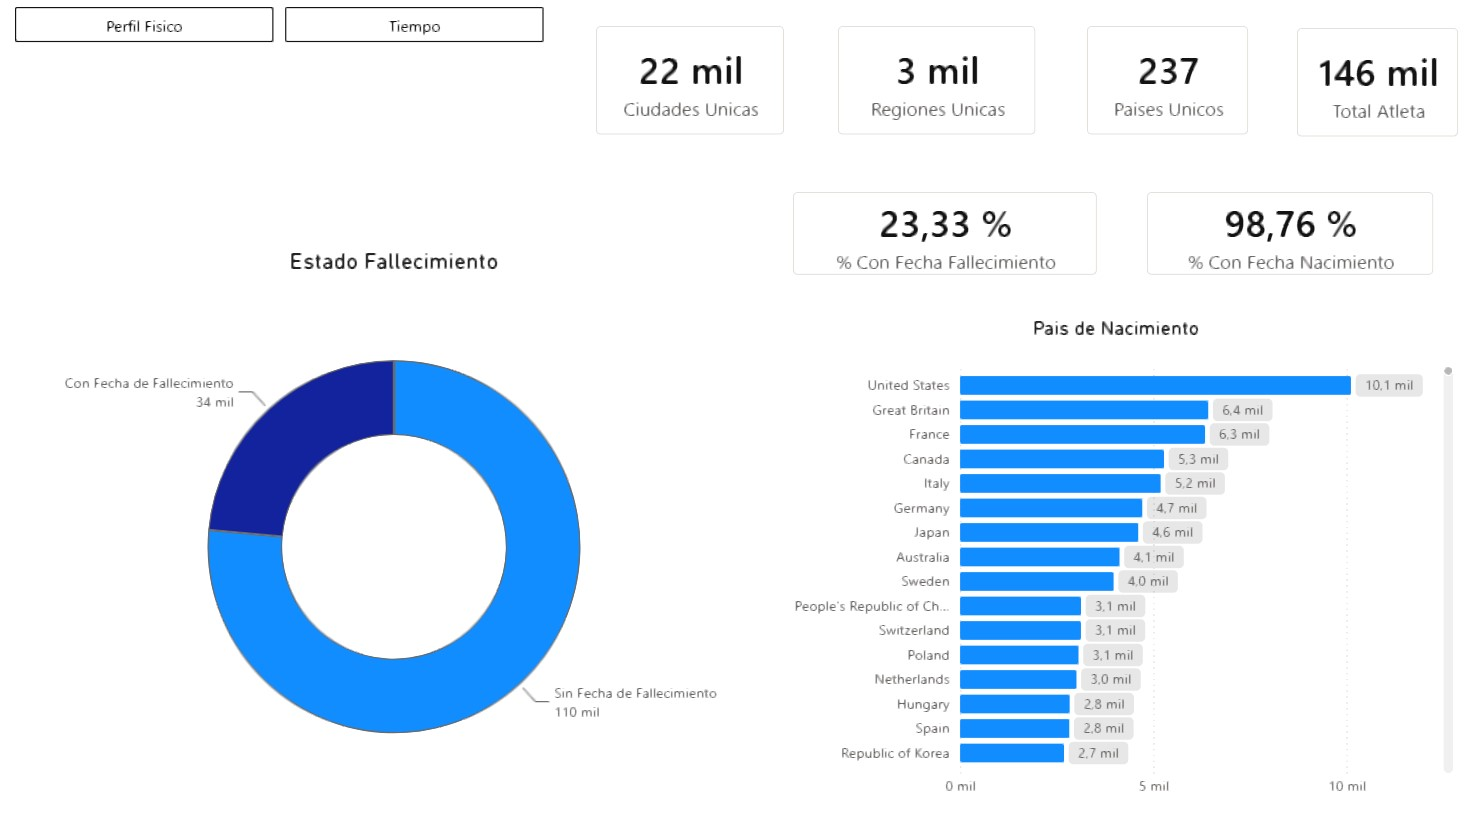

Layout of this report page (visuals, bound fields, positions):
{"tool":"powerbi","page":{"name":"Resumen General","canvas":[1280,720],"ordinal":0},"visuals":[{"type":"cardVisual","fields":{"Data":["MEDIDAS.Total_Atleta"]},"box":[1096.3,14.1,172.6,127.2],"z":0},{"type":"cardVisual","fields":{"Data":["MEDIDAS.Paises_Unicos"]},"box":[916.3,12.5,172.6,127.2],"z":1000},{"type":"cardVisual","fields":{"Data":["MEDIDAS.Regiones_Unicas"]},"box":[704.2,12.5,203.2,127.5],"z":2000},{"type":"cardVisual","fields":{"Data":["MEDIDAS.Ciudades_Unicas"]},"box":[496.5,12.5,195.2,127.5],"z":3000},{"type":"cardVisual","fields":{"Data":["MEDIDAS.%_Con_Fecha_Nacimiento"]},"box":[968,155.1,279.9,105.2],"z":4000},{"type":"cardVisual","fields":{"Data":["MEDIDAS.%_Con_Fecha_Fallecimiento"]},"box":[665,155.1,294.2,105.2],"z":5000},{"type":"barChart","title":"Pais de Nacimiento ","fields":{"Y":["CountNonNull(bios_new.Pais_Nacimiento)"],"Category":["bios_new.NOC"]},"box":[665.3,277.9,586.5,419.8],"z":6000},{"type":"donutChart","title":"Estado Fallecimiento","fields":{"Category":["bios_new.Estado_Fallecimiento"],"Y":["MEDIDAS.Con_Fecha_Nacimiento"]},"box":[25.7,219.8,631.1,478],"z":7000},{"type":"pageNavigator","box":[17.5,14,452,30.6],"z":8000}]}

Visuals, with their boxes in screenshot pixels (x1, y1, x2, y2), scaled from the page's 1280x720 canvas onto the 1480x819 screenshot:
cardVisual - MEDIDAS.Total_Atleta: 1268/16/1467/161
cardVisual - MEDIDAS.Paises_Unicos: 1059/14/1259/159
cardVisual - MEDIDAS.Regiones_Unicas: 814/14/1049/159
cardVisual - MEDIDAS.Ciudades_Unicas: 574/14/800/159
cardVisual - MEDIDAS.%_Con_Fecha_Nacimiento: 1119/176/1443/296
cardVisual - MEDIDAS.%_Con_Fecha_Fallecimiento: 769/176/1109/296
"Pais de Nacimiento " barChart: 769/316/1447/794
"Estado Fallecimiento" donutChart: 30/250/759/794
pageNavigator: 20/16/543/51
